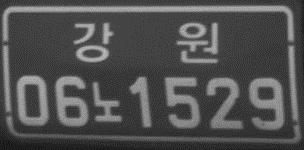0: (15, 72, 50, 128)
1: (126, 72, 156, 130)
2: (205, 73, 243, 132)
5: (161, 73, 201, 131)
6: (53, 73, 89, 129)
9: (247, 73, 286, 131)
강원_D: (70, 19, 221, 67)
노: (86, 79, 123, 126)
